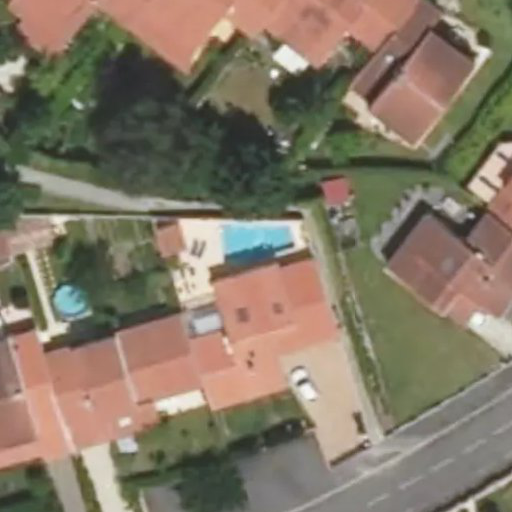pool: (216, 222, 295, 259)
